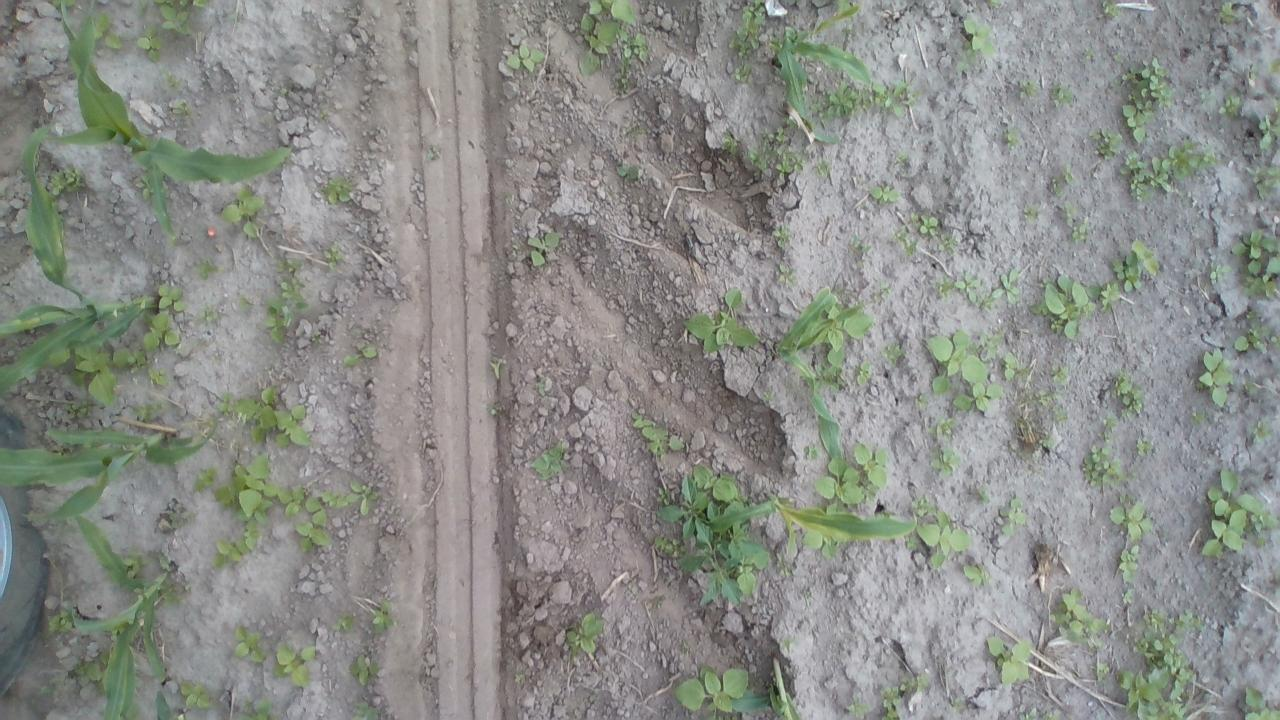Maize: (48, 3, 295, 236), (0, 127, 156, 400), (68, 513, 174, 720), (1, 425, 218, 520), (778, 283, 861, 463), (780, 0, 868, 147), (711, 494, 917, 552), (732, 654, 799, 720), (157, 691, 173, 719)
Weeds: (214, 454, 378, 566), (657, 463, 771, 610), (1113, 612, 1202, 720), (919, 332, 1002, 416), (1028, 266, 1123, 338), (1202, 467, 1276, 558), (684, 285, 760, 354), (816, 437, 890, 504), (237, 384, 310, 448), (578, 0, 632, 77), (676, 664, 748, 720), (1124, 57, 1170, 144), (1046, 587, 1108, 646), (1231, 225, 1280, 298), (916, 509, 972, 569), (826, 306, 878, 370), (70, 344, 118, 408), (748, 124, 804, 176), (1195, 347, 1239, 408), (1118, 150, 1171, 200), (815, 83, 875, 123), (987, 636, 1036, 684), (220, 187, 264, 240), (938, 268, 992, 310), (1163, 140, 1218, 181), (878, 675, 927, 720), (630, 413, 686, 452), (264, 296, 310, 342), (729, 0, 764, 56), (273, 641, 317, 685), (1078, 444, 1120, 490), (1112, 495, 1151, 543), (876, 82, 922, 116), (142, 312, 184, 349), (1112, 370, 1146, 415), (566, 615, 604, 655), (1088, 127, 1130, 162), (529, 438, 565, 478), (1247, 162, 1280, 204), (963, 16, 996, 58), (1240, 686, 1280, 720), (231, 625, 263, 663), (44, 165, 84, 195), (1112, 254, 1144, 291), (999, 498, 1028, 538), (320, 172, 354, 206), (992, 266, 1023, 302), (1130, 238, 1160, 275), (94, 10, 122, 49), (158, 3, 192, 34), (178, 680, 213, 710), (1117, 546, 1144, 584), (802, 532, 841, 558), (508, 43, 544, 71), (930, 449, 960, 482), (1257, 109, 1280, 151), (528, 231, 556, 265), (156, 284, 190, 312), (998, 357, 1032, 384), (1236, 324, 1266, 352), (350, 654, 378, 684), (893, 229, 920, 260), (71, 661, 102, 688), (138, 28, 164, 60), (776, 262, 802, 292), (344, 344, 376, 368), (125, 550, 152, 578), (136, 400, 168, 423), (113, 348, 149, 368), (235, 699, 269, 720), (192, 465, 215, 496), (1052, 83, 1076, 110), (1138, 608, 1170, 628), (628, 34, 650, 63), (880, 344, 904, 370), (871, 184, 902, 204), (1058, 200, 1086, 222), (280, 276, 308, 298), (910, 496, 940, 516), (1098, 413, 1120, 439), (940, 231, 961, 258), (50, 610, 72, 635), (374, 599, 391, 631), (1252, 418, 1271, 446), (964, 565, 989, 586), (919, 216, 944, 236), (1210, 262, 1230, 286), (1214, 1, 1238, 21), (612, 69, 632, 93), (218, 390, 234, 420), (198, 304, 224, 322), (1020, 76, 1041, 98), (66, 403, 94, 419), (1218, 98, 1242, 116), (1098, 0, 1122, 18), (355, 702, 379, 720), (324, 241, 341, 266), (1052, 366, 1074, 385), (200, 260, 222, 278), (858, 360, 872, 388), (724, 130, 741, 153), (942, 416, 962, 434), (802, 442, 819, 463), (973, 486, 993, 503), (848, 704, 869, 720), (1035, 390, 1056, 406), (1062, 166, 1078, 187), (491, 360, 506, 382), (1134, 438, 1153, 455), (1021, 203, 1040, 220), (134, 175, 148, 198), (1190, 408, 1206, 428), (150, 368, 170, 384), (136, 0, 152, 20), (167, 72, 186, 88), (1246, 61, 1256, 91), (152, 0, 212, 5), (734, 64, 752, 80), (172, 102, 191, 117), (280, 261, 304, 272), (952, 699, 968, 715), (1119, 589, 1135, 605), (1049, 180, 1066, 195), (1018, 708, 1039, 720), (1038, 436, 1056, 450), (1006, 133, 1023, 147), (904, 535, 920, 549), (762, 389, 776, 405), (814, 159, 831, 172), (1246, 310, 1268, 320), (1095, 662, 1113, 674), (1074, 224, 1085, 243), (1054, 411, 1070, 423), (238, 294, 250, 309), (1271, 55, 1280, 74), (338, 616, 352, 628), (1085, 48, 1097, 58), (1270, 335, 1280, 345), (989, 0, 1000, 3)
